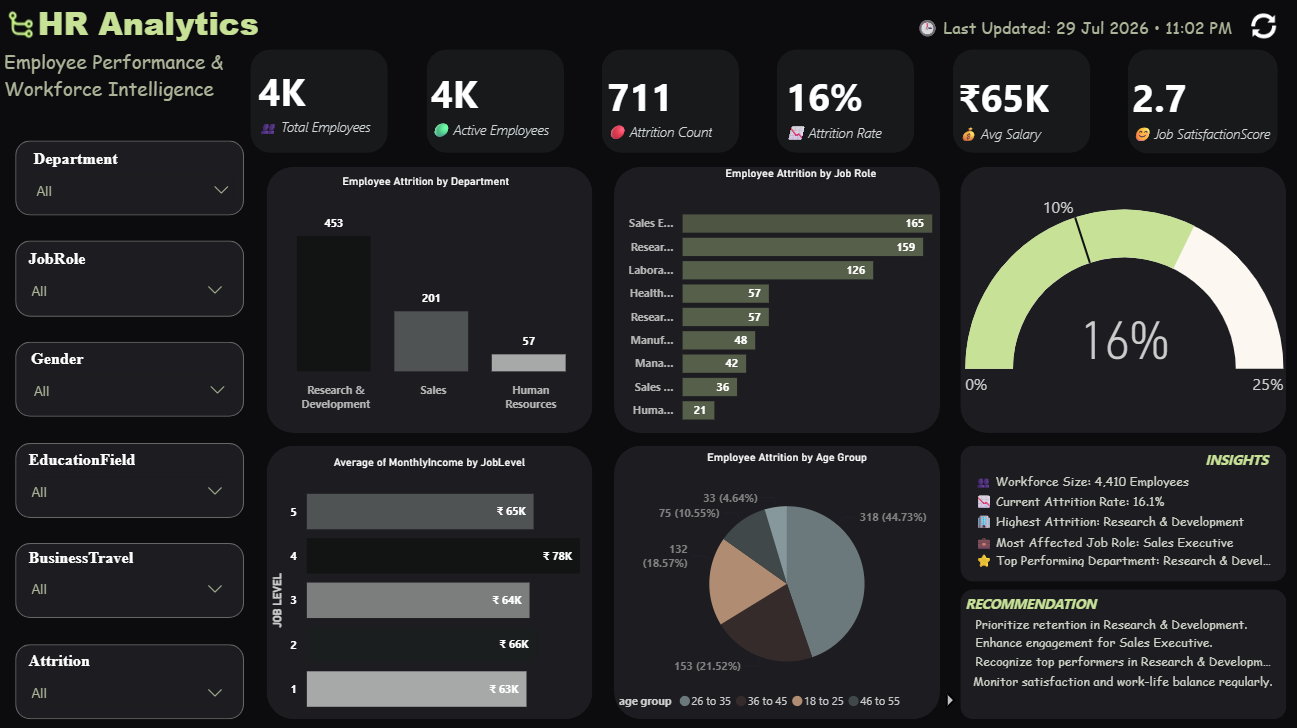

The page's visual inventory and layout, read from the dashboard file:
{"tool":"powerbi","page":{"name":"Page 1","canvas":[1280,720],"ordinal":0},"visuals":[{"type":"shape","box":[1107.5,50,147.5,102.5],"z":0,"group":"g1"},{"type":"shape","box":[247.2,50.1,135.1,101.9],"z":0,"group":"g6"},{"type":"shape","box":[419.3,50.1,135.1,101.9],"z":0,"group":"g5"},{"type":"shape","box":[591.4,50.1,135.1,101.9],"z":0,"group":"g4"},{"type":"shape","box":[763.5,50.1,135.1,101.9],"z":0,"group":"g3"},{"type":"shape","box":[936.4,50.4,135.1,101.9],"z":0,"group":"g2"},{"type":"shape","box":[943.8,166.2,320,261.2],"z":0,"group":"g7"},{"type":"shape","box":[943.6,580.4,320.2,127.6],"z":1000,"group":"g7"},{"type":"shape","box":[16,139.9,224.5,73.6],"z":2000,"group":"g7"},{"type":"shape","box":[603.3,165.6,320,261.4],"z":3000,"group":"g7"},{"type":"group","id":"g1","title":"Group 1","box":[1107.5,50,147.5,102.5],"z":4000,"group":"g7"},{"type":"shape","box":[603.8,438.8,320,268.8],"z":5000,"group":"g7"},{"type":"shape","box":[943.6,439.3,320.2,133.7],"z":6000,"group":"g7"},{"type":"group","id":"g2","title":"Group 1","box":[936.4,50.4,135.1,101.9],"z":7000,"group":"g7"},{"type":"textbox","title":"HR Analytics","box":[32.9,3,238.6,48.7],"z":8000,"group":"g7"},{"type":"shape","box":[262.6,165.6,320,261.4],"z":9000,"group":"g7"},{"type":"shape","box":[262.5,438.8,320,268.8],"z":10000,"group":"g7"},{"type":"textbox","title":"Employee Performance & Workforce Intelligence","box":[0,49.6,238.8,154.5],"z":11000,"group":"g7"},{"type":"group","id":"g3","title":"Group 1","box":[763.5,50.1,135.1,101.9],"z":12000,"group":"g7"},{"type":"columnChart","title":"Employee Attrition by Department","fields":{"Y":["DAX Calculation.Attrition Count"],"Category":["general data.Department"]},"box":[234.4,173,369.3,240.5],"z":13000,"group":"g7"},{"type":"clusteredBarChart","title":"Employee Attrition by Job Role","fields":{"Category":["general data.JobRole"],"Y":["DAX Calculation.Attrition Count"]},"box":[601.3,165.3,372,262.7],"z":14000,"group":"g7"},{"type":"group","id":"g4","title":"Group 1","box":[591.4,50.1,135.1,101.9],"z":15000,"group":"g7"},{"type":"pieChart","title":"Employee Attrition by Age Group","fields":{"Category":["general data.age group"],"Y":["CALCULATIONS.Attrition Count"]},"box":[603.7,444.2,339.9,263.8],"z":16000,"group":"g7"},{"type":"group","id":"g5","title":"Group 1","box":[419.3,50.1,135.1,101.9],"z":17000,"group":"g7"},{"type":"clusteredBarChart","fields":{"Category":["general data.JobLevel"],"Y":["Avg(general data.MonthlyIncome)"]},"box":[262.7,449.3,320,258.7],"z":18000,"group":"g7"},{"type":"image","box":[7,7.4,28.6,39.8],"z":19000,"group":"g7"},{"type":"group","id":"g6","title":"Group 1","box":[247.2,50.1,135.1,101.9],"z":20000,"group":"g7"},{"type":"cardVisual","title":"ee","fields":{"Data":["DAX Calculation.Total Employees"]},"box":[226.2,36.2,181.2,136.2],"z":21000,"group":"g7"},{"type":"cardVisual","title":"ee","fields":{"Data":["DAX Calculation.Active Employees"]},"box":[395,38.8,180,136.2],"z":22000,"group":"g7"},{"type":"cardVisual","title":"ee","fields":{"Data":["DAX Calculation.Attrition Count"]},"box":[567.5,38.8,180,133.8],"z":23000,"group":"g7"},{"type":"cardVisual","title":"ee","fields":{"Data":["DAX Calculation.Attrition Rate"]},"box":[743.8,37.5,181.2,135],"z":24000,"group":"g7"},{"type":"cardVisual","title":"ee","fields":{"Data":["DAX Calculation.Average Salary"]},"box":[912.5,45,152.5,122.5],"z":25000,"group":"g7"},{"type":"cardVisual","title":"ee","fields":{"Data":["DAX Calculation.Average Job Satisfaction"]},"box":[1083.8,37.5,195,137.5],"z":26000,"group":"g7"},{"type":"cardVisual","fields":{"Data":["DAX Calculation.Last Refresh"]},"box":[865.6,0,381.5,56.1],"z":27000,"group":"g7"},{"type":"image","box":[1227.6,11.5,26.5,32.2],"z":28000,"group":"g7"},{"type":"slicer","fields":{"Values":["general data.Department"]},"box":[20.9,143.6,219.6,71.2],"z":29000,"group":"g7"},{"type":"shape","box":[16,436.8,224.5,73.6],"z":30000,"group":"g7"},{"type":"shape","box":[16,535,224.5,73.6],"z":31000,"group":"g7"},{"type":"shape","box":[16,238,224.5,74.8],"z":32000,"group":"g7"},{"type":"shape","box":[16,337.4,224.5,73.6],"z":33000,"group":"g7"},{"type":"shape","box":[16,634.4,224.5,73.6],"z":34000,"group":"g7"},{"type":"slicer","fields":{"Values":["general data.JobRole"]},"box":[16,241.7,218.4,71.2],"z":35000,"group":"g7"},{"type":"slicer","fields":{"Values":["general data.Gender"]},"box":[18.4,339.9,218.4,71.2],"z":36000,"group":"g7"},{"type":"slicer","fields":{"Values":["general data.EducationField"]},"box":[16,439.3,218.4,71.2],"z":37000,"group":"g7"},{"type":"slicer","fields":{"Values":["general data.BusinessTravel"]},"box":[16,535,218.4,71.2],"z":38000,"group":"g7"},{"type":"slicer","fields":{"Values":["general data.Attrition"]},"box":[16,636.8,218.4,71.2],"z":39000,"group":"g7"},{"type":"cardVisual","fields":{"Data":["Insight - Highest Attrition Department.Insight Total Employees"]},"box":[936.2,448.8,341.2,46.2],"z":40000,"group":"g7"},{"type":"textbox","box":[1174.2,439.3,81,29.4],"z":41000,"group":"g7"},{"type":"cardVisual","fields":{"Data":["CALCULATIONS.Insight Attrition Rate"]},"box":[932.5,470,345,45],"z":42000,"group":"g7"},{"type":"cardVisual","fields":{"Data":["CALCULATIONS.Insight Highest Attrition Department"]},"box":[932.5,490,345,45],"z":43000,"group":"g7"},{"type":"cardVisual","fields":{"Data":["CALCULATIONS.Insight Highest Attrition Job Role"]},"box":[932.5,508.8,345,46.2],"z":44000,"group":"g7"},{"type":"cardVisual","fields":{"Data":["CALCULATIONS.Insight Best Performance Department"]},"box":[932.5,527.5,345,45],"z":45000,"group":"g7"},{"type":"textbox","box":[943.8,580,152.5,28.8],"z":46000,"group":"g7"},{"type":"cardVisual","fields":{"Data":["CALCULATIONS.Recommendation 1"]},"box":[932.5,590,345,45],"z":47000,"group":"g7"},{"type":"cardVisual","fields":{"Data":["CALCULATIONS.Recommendation 2"]},"box":[932.5,608.8,345,45],"z":48000,"group":"g7"},{"type":"cardVisual","fields":{"Data":["CALCULATIONS.Recommendation 3"]},"box":[932.5,627.5,345,45],"z":49000,"group":"g7"},{"type":"cardVisual","fields":{"Data":["CALCULATIONS.Recommendation 4"]},"box":[930,645,347.5,46.2],"z":50000,"group":"g7"},{"type":"gauge","fields":{"Y":["CALCULATIONS.Attrition Rate"],"MinValue":["CALCULATIONS.Attrition Min"],"MaxValue":["CALCULATIONS.Attrition Max"],"TargetValue":["CALCULATIONS.Attrition Target"]},"box":[943.8,170,322.5,241.2],"z":51000,"group":"g7"},{"type":"group","id":"g7","title":"Group 2","box":[0,0,1278.8,708],"z":51001}]}

Visuals, with their boxes in screenshot pixels (x1, y1, x2, y2), scaled from the page's 1280x720 canvas onto the 1297x728 screenshot:
shape: locate(1122, 51, 1272, 154)
shape: locate(250, 51, 387, 154)
shape: locate(425, 51, 562, 154)
shape: locate(599, 51, 736, 154)
shape: locate(774, 51, 911, 154)
shape: locate(949, 51, 1086, 154)
shape: locate(956, 168, 1281, 432)
shape: locate(956, 587, 1281, 716)
shape: locate(16, 141, 244, 216)
shape: locate(611, 167, 936, 432)
"Group 1" group: locate(1122, 51, 1272, 154)
shape: locate(612, 444, 936, 715)
shape: locate(956, 444, 1281, 579)
"Group 1" group: locate(949, 51, 1086, 154)
"HR Analytics" textbox: locate(33, 3, 275, 52)
shape: locate(266, 167, 590, 432)
shape: locate(266, 444, 590, 715)
"Employee Performance & Workforce Intelligence" textbox: locate(0, 50, 242, 206)
"Group 1" group: locate(774, 51, 911, 154)
"Employee Attrition by Department" columnChart: locate(238, 175, 612, 418)
"Employee Attrition by Job Role" clusteredBarChart: locate(609, 167, 986, 433)
"Group 1" group: locate(599, 51, 736, 154)
"Employee Attrition by Age Group" pieChart: locate(612, 449, 956, 716)
"Group 1" group: locate(425, 51, 562, 154)
clusteredBarChart - general data.JobLevel x Avg(general data.MonthlyIncome): locate(266, 454, 590, 716)
image: locate(7, 7, 36, 48)
"Group 1" group: locate(250, 51, 387, 154)
"ee" cardVisual: locate(229, 37, 413, 174)
"ee" cardVisual: locate(400, 39, 583, 177)
"ee" cardVisual: locate(575, 39, 757, 175)
"ee" cardVisual: locate(754, 38, 937, 174)
"ee" cardVisual: locate(925, 46, 1079, 169)
"ee" cardVisual: locate(1098, 38, 1296, 177)
cardVisual - DAX Calculation.Last Refresh: locate(877, 0, 1264, 57)
image: locate(1244, 12, 1271, 44)
slicer - general data.Department: locate(21, 145, 244, 217)
shape: locate(16, 442, 244, 516)
shape: locate(16, 541, 244, 615)
shape: locate(16, 241, 244, 316)
shape: locate(16, 341, 244, 416)
shape: locate(16, 641, 244, 716)
slicer - general data.JobRole: locate(16, 244, 238, 316)
slicer - general data.Gender: locate(19, 344, 240, 416)
slicer - general data.EducationField: locate(16, 444, 238, 516)
slicer - general data.BusinessTravel: locate(16, 541, 238, 613)
slicer - general data.Attrition: locate(16, 644, 238, 716)
cardVisual - Insight - Highest Attrition Department.Insight Total Employees: locate(949, 454, 1294, 500)
textbox: locate(1190, 444, 1272, 474)
cardVisual - CALCULATIONS.Insight Attrition Rate: locate(945, 475, 1294, 521)
cardVisual - CALCULATIONS.Insight Highest Attrition Department: locate(945, 495, 1294, 541)
cardVisual - CALCULATIONS.Insight Highest Attrition Job Role: locate(945, 514, 1294, 561)
cardVisual - CALCULATIONS.Insight Best Performance Department: locate(945, 533, 1294, 579)
textbox: locate(956, 586, 1111, 616)
cardVisual - CALCULATIONS.Recommendation 1: locate(945, 597, 1294, 642)
cardVisual - CALCULATIONS.Recommendation 2: locate(945, 616, 1294, 661)
cardVisual - CALCULATIONS.Recommendation 3: locate(945, 634, 1294, 680)
cardVisual - CALCULATIONS.Recommendation 4: locate(942, 652, 1294, 699)
gauge - CALCULATIONS.Attrition Rate x CALCULATIONS.Attrition Min: locate(956, 172, 1283, 416)
"Group 2" group: locate(0, 0, 1296, 716)
